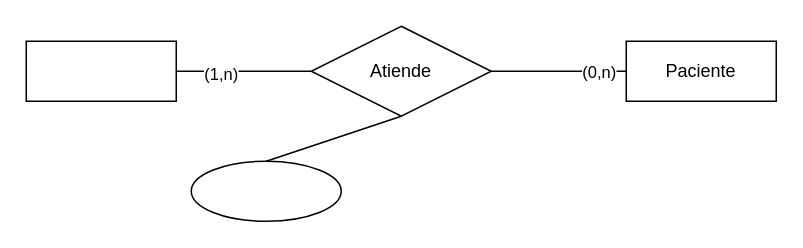
Image size: 803x248. Some labels were removed from this diagram. Each missing label, with the centre of its shape:
Fecha: [265,190]
Médico: [100,70]
